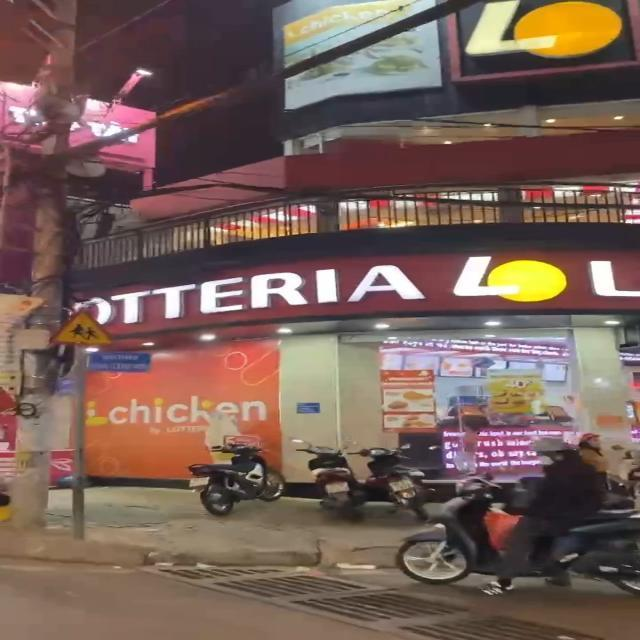225-chu-y-tre-em: (48, 306, 116, 348)
